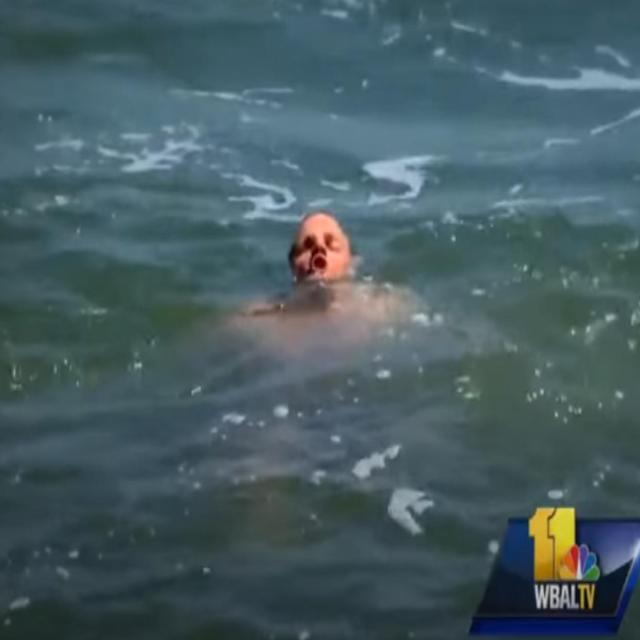Out of Water: (283, 202, 352, 301)
